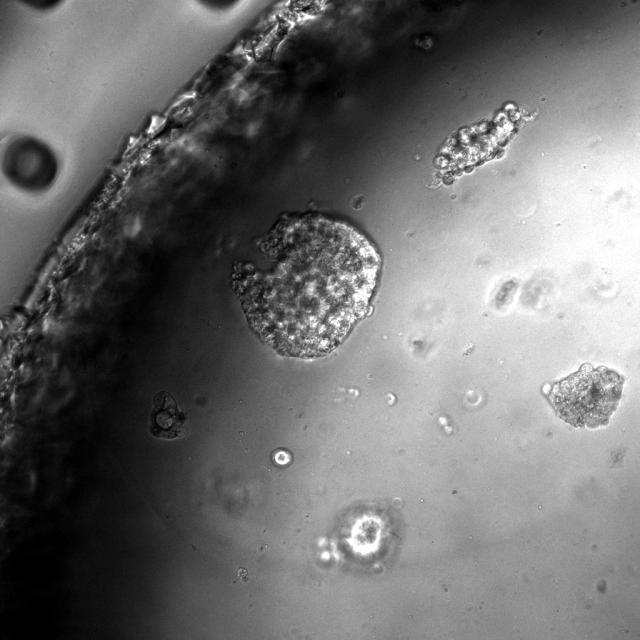organoid: (230, 210, 383, 361), (431, 103, 534, 187), (311, 502, 402, 574), (543, 363, 625, 428), (149, 391, 186, 438), (494, 279, 518, 309), (271, 447, 293, 467), (436, 414, 455, 436), (237, 567, 248, 582), (386, 392, 397, 406)
